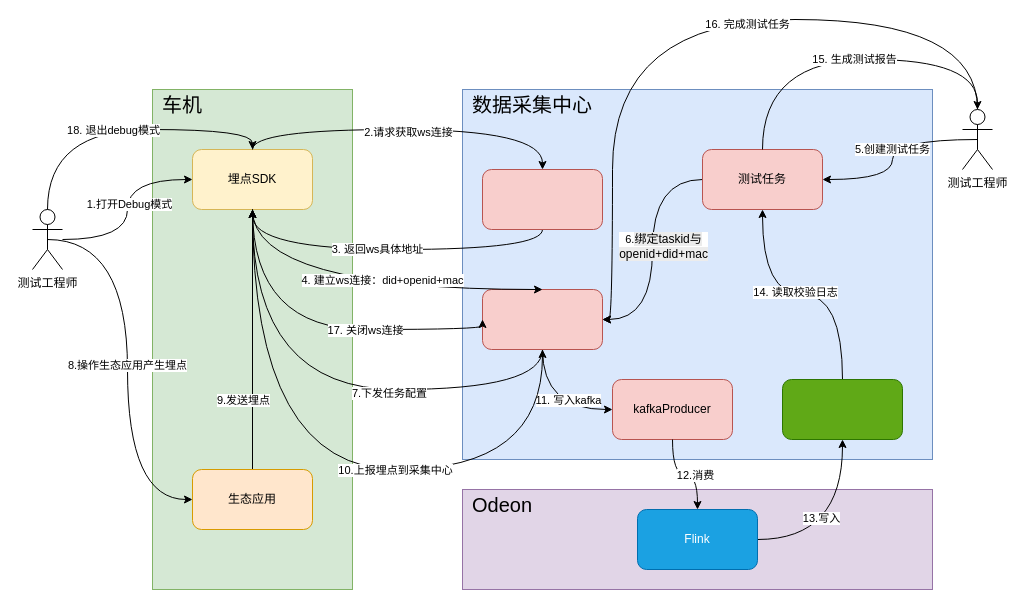
The diagram is 1024 pixels wide and 607 high, and some of its shapes have lost their labels. Here are the shapes that lost their labels. From the top down, the centre of each, then its label:
(542,199): API服务
(542,319): websocket服务
(842,409): MongoDB
